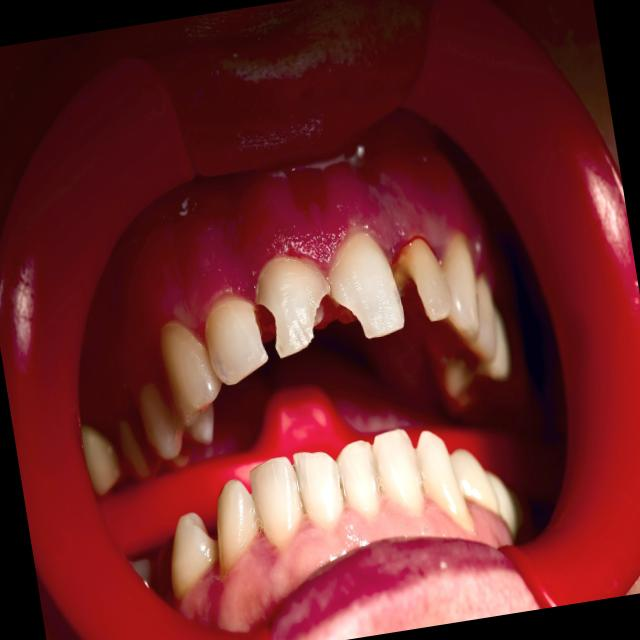Cavity: (390, 240, 417, 297)
Tooth: (328, 232, 404, 339), (256, 256, 331, 358), (160, 322, 222, 425), (416, 431, 474, 531), (206, 299, 268, 385), (390, 239, 452, 321), (250, 456, 304, 545), (372, 429, 424, 515), (442, 234, 480, 345), (171, 512, 219, 599), (218, 479, 260, 574), (293, 452, 344, 528), (336, 440, 381, 517)
